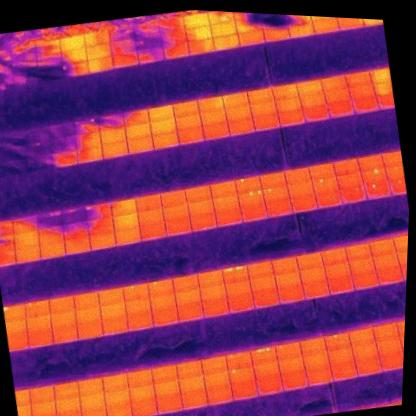Diode: (220, 264, 249, 285)
Hotspot: (122, 281, 150, 303), (363, 179, 391, 201), (323, 330, 351, 352), (146, 277, 175, 298), (23, 298, 51, 319), (290, 193, 318, 214), (225, 350, 253, 371), (250, 345, 278, 366), (274, 340, 302, 361), (311, 175, 340, 195), (72, 116, 101, 136), (340, 184, 367, 205), (24, 313, 52, 333), (212, 193, 240, 213), (283, 166, 311, 186), (228, 365, 255, 385), (360, 166, 388, 185), (262, 183, 289, 202), (234, 175, 261, 194), (333, 157, 360, 176), (236, 189, 264, 207)
Normal: (201, 294, 231, 318), (175, 300, 205, 323), (204, 382, 234, 405), (226, 290, 255, 313), (239, 200, 268, 223), (230, 378, 259, 401), (255, 374, 284, 397), (275, 283, 305, 305), (350, 269, 380, 291), (27, 384, 57, 406), (298, 335, 328, 357), (330, 360, 358, 383), (47, 294, 76, 316), (320, 246, 349, 268), (343, 241, 372, 263), (264, 197, 293, 219), (151, 129, 180, 151), (180, 388, 209, 410), (187, 35, 216, 57), (175, 358, 204, 380), (200, 355, 229, 377), (325, 99, 355, 120), (302, 279, 330, 301), (376, 265, 404, 287), (372, 250, 400, 272), (172, 272, 200, 294), (296, 250, 324, 272), (13, 243, 41, 265), (139, 221, 167, 243), (156, 392, 184, 414), (103, 387, 131, 409), (348, 326, 376, 348), (372, 321, 400, 343), (26, 329, 55, 350), (51, 324, 80, 345), (75, 319, 104, 340), (100, 315, 129, 336), (151, 306, 180, 327), (48, 309, 77, 330), (97, 286, 126, 307), (196, 268, 225, 289), (38, 239, 67, 260), (100, 139, 129, 160), (176, 125, 205, 146), (201, 120, 230, 141), (227, 117, 256, 138), (277, 108, 306, 129), (305, 365, 334, 386), (311, 16, 340, 37), (351, 341, 380, 362), (273, 270, 303, 290), (236, 27, 266, 47), (252, 287, 279, 309), (165, 216, 192, 238), (327, 274, 355, 295), (149, 291, 177, 312), (72, 290, 100, 311), (246, 259, 274, 280), (271, 255, 299, 276), (368, 237, 396, 258), (64, 235, 92, 256), (190, 211, 218, 232), (75, 144, 103, 165), (252, 111, 280, 132), (54, 395, 82, 416), (128, 382, 156, 403), (252, 359, 280, 380), (302, 350, 330, 371), (52, 380, 80, 401), (327, 346, 355, 367), (77, 376, 105, 397), (101, 372, 129, 393), (126, 368, 154, 389), (376, 337, 404, 358), (224, 278, 253, 298), (249, 273, 278, 293), (88, 230, 117, 250), (302, 103, 331, 123), (224, 103, 253, 123), (249, 98, 278, 118), (347, 82, 376, 102), (172, 99, 201, 119), (86, 54, 115, 74), (355, 357, 384, 377), (322, 86, 352, 105), (127, 311, 154, 332), (112, 211, 139, 232), (110, 196, 137, 217), (210, 178, 237, 199), (281, 370, 308, 391), (288, 18, 315, 39), (153, 378, 180, 399), (278, 355, 305, 376), (151, 363, 178, 384), (74, 305, 102, 325), (99, 301, 127, 321), (124, 296, 152, 316), (299, 265, 327, 285), (348, 256, 376, 276), (215, 207, 243, 227), (315, 190, 343, 210), (162, 203, 190, 223), (335, 170, 363, 190), (135, 192, 163, 212), (308, 161, 336, 181), (174, 112, 202, 132), (196, 94, 224, 114), (111, 49, 139, 69), (83, 28, 111, 48), (78, 391, 106, 411), (178, 374, 206, 394), (203, 370, 231, 390), (323, 261, 352, 280), (183, 184, 212, 203), (356, 152, 385, 171), (351, 96, 380, 115), (273, 95, 302, 114), (221, 91, 250, 110), (271, 82, 300, 101), (296, 78, 325, 97), (320, 74, 349, 93), (344, 69, 373, 88), (378, 351, 404, 372), (114, 226, 141, 246), (287, 180, 314, 200), (259, 170, 286, 190), (127, 135, 154, 155), (125, 121, 152, 141), (212, 32, 239, 52), (174, 287, 202, 306), (199, 283, 227, 302), (12, 230, 40, 249), (137, 207, 165, 226), (186, 198, 214, 217), (160, 189, 188, 208), (99, 126, 127, 145), (199, 108, 227, 127), (246, 86, 274, 105), (85, 41, 113, 60), (58, 34, 86, 53), (182, 11, 210, 30), (299, 91, 328, 109), (148, 104, 175, 123), (210, 19, 237, 38), (130, 398, 158, 416), (29, 398, 57, 416), (184, 25, 212, 43), (334, 17, 365, 33), (149, 117, 176, 135), (105, 401, 132, 416), (79, 405, 108, 416), (395, 316, 405, 337), (307, 16, 337, 22), (56, 410, 83, 416), (398, 331, 405, 353), (31, 411, 60, 416)
Shadow: (25, 151, 57, 175), (23, 135, 54, 159), (0, 155, 30, 179), (261, 24, 292, 47), (48, 132, 78, 155), (0, 140, 28, 163), (59, 204, 88, 226), (84, 201, 113, 223), (97, 111, 126, 132), (60, 59, 90, 79), (37, 224, 65, 245), (51, 148, 79, 169), (9, 38, 37, 59), (86, 216, 115, 236), (48, 119, 77, 139), (36, 64, 65, 84), (136, 45, 165, 65), (159, 27, 188, 47), (259, 13, 289, 32), (63, 220, 90, 241), (162, 40, 190, 60), (133, 19, 161, 39), (74, 131, 103, 150), (11, 53, 40, 72), (59, 46, 88, 65), (134, 33, 163, 52), (123, 107, 150, 127), (36, 49, 63, 69), (234, 16, 264, 34), (11, 215, 39, 234), (35, 211, 63, 230), (34, 37, 62, 56), (108, 25, 136, 44), (109, 38, 138, 56), (158, 16, 185, 34), (207, 11, 236, 25), (284, 15, 312, 27)
